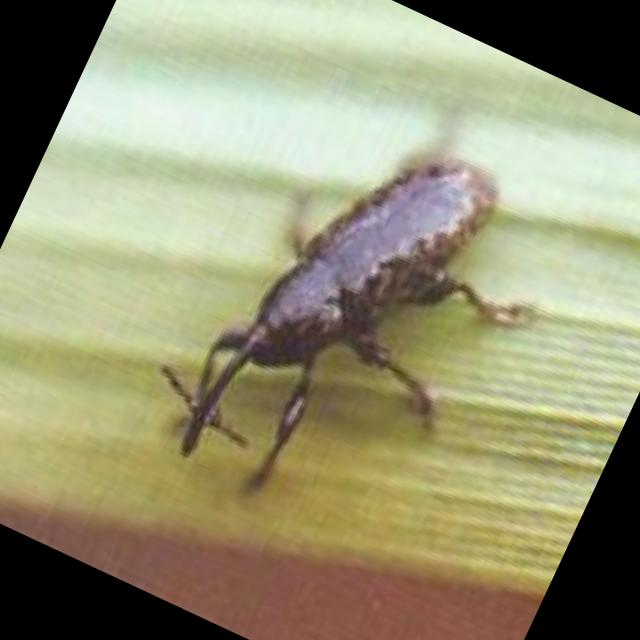rice-bug: (156, 88, 543, 548)
